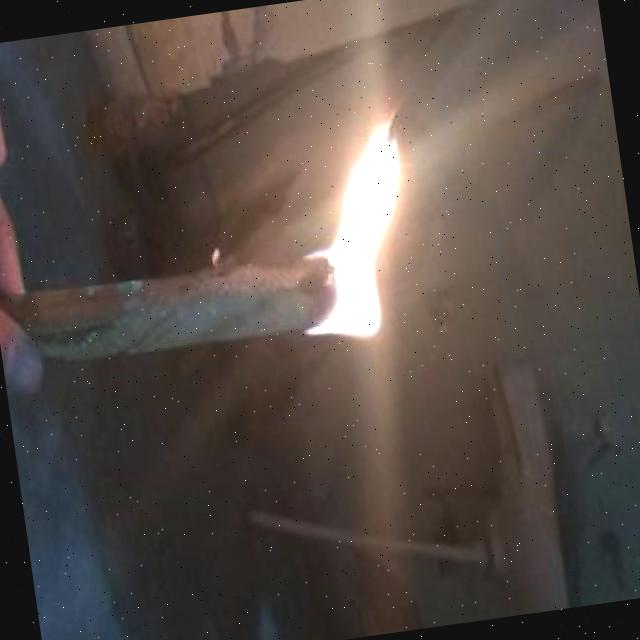fire: (281, 117, 442, 355)
